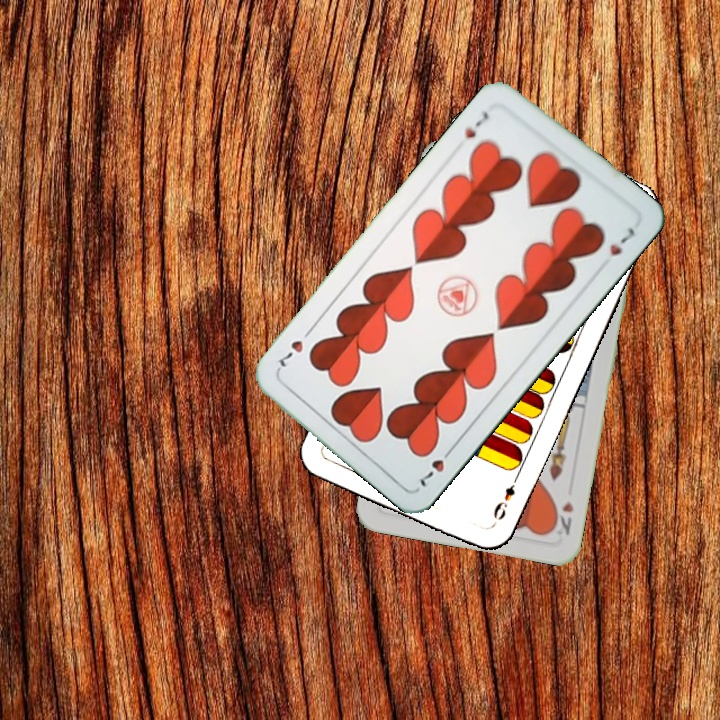E9: (489, 473, 521, 523)
H7: (415, 442, 457, 490), (460, 106, 491, 142)
HK: (548, 497, 576, 538)
